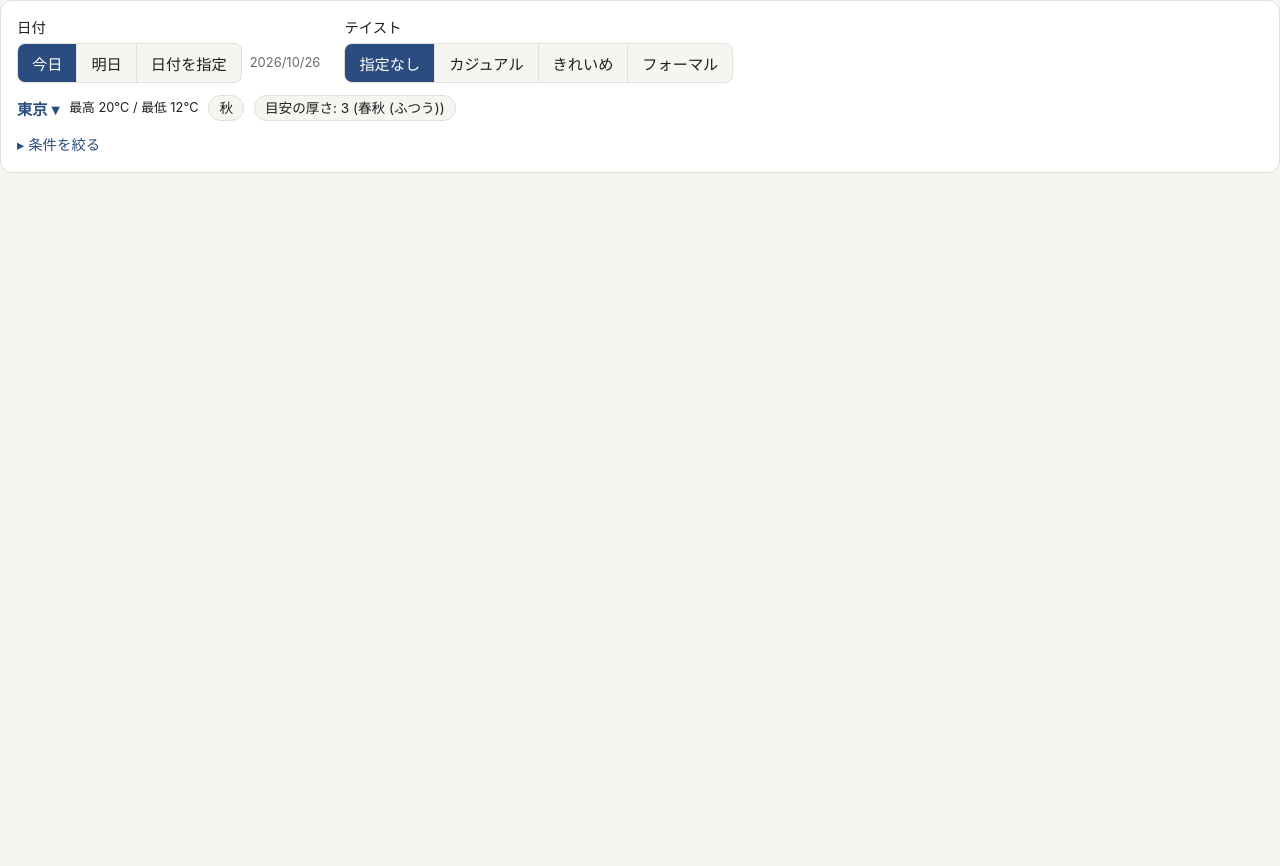
it: two-tier conditions › lets the user return a manually typed temperature to the forecast
Expected: the text "最高 20℃ / 最低 12℃" is shown, [69,98,198,117]
Click the button "▸ 条件を絞る" at (59, 144), box [17,133,100,154]
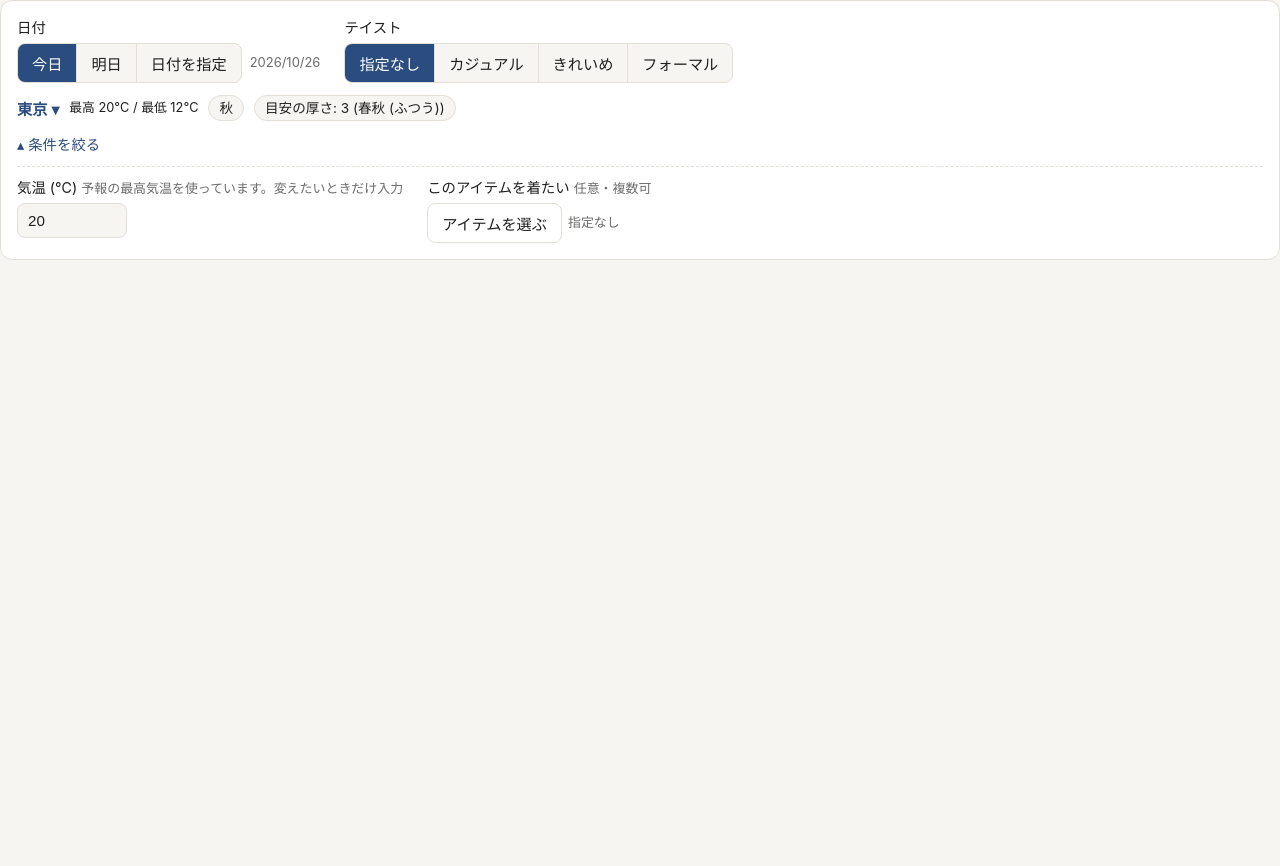
Expected: the button "予報に戻す" is not shown
Expected: the number field with placeholder "例: 18" holds "20"
Replace the text in the number field with placeholder "例: 18" with "12" at (72, 220), box [17,203,127,238]
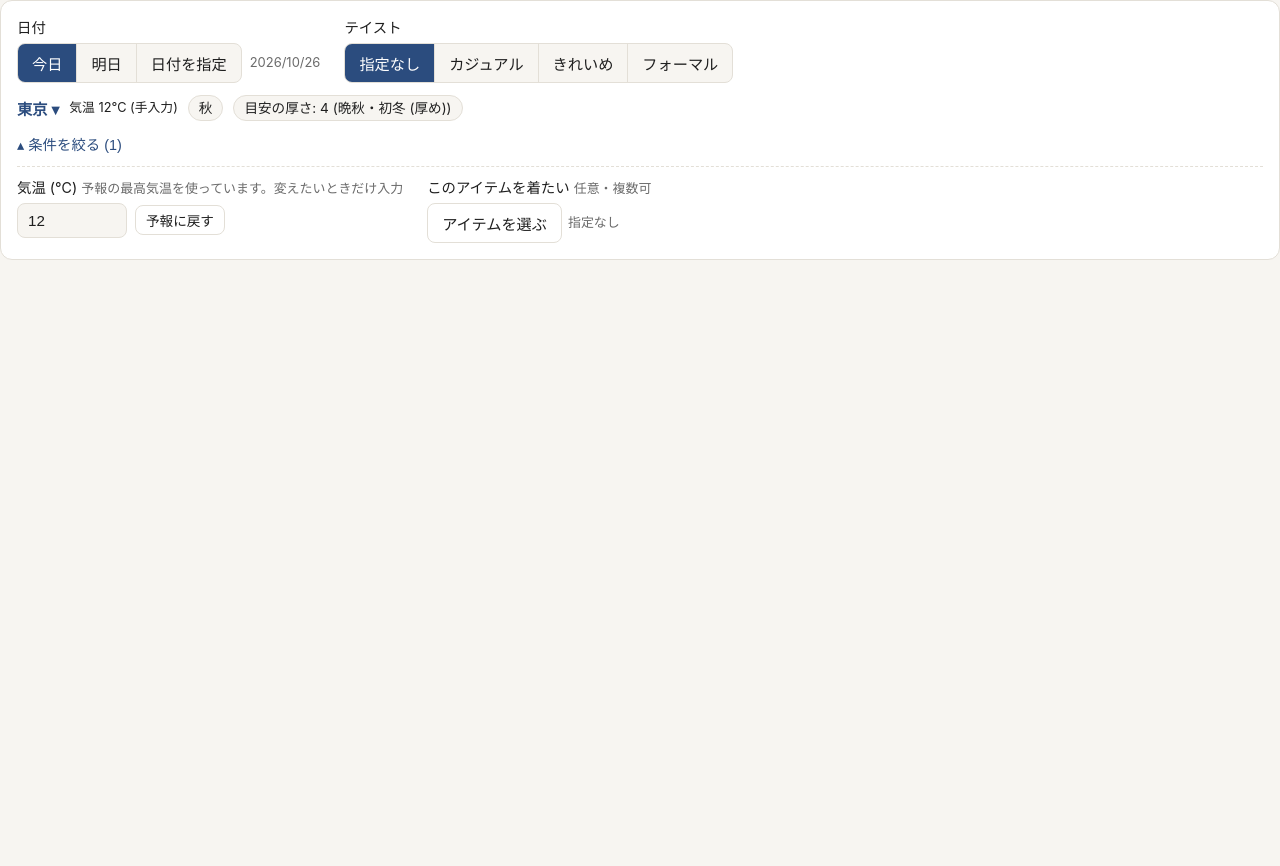
Click the button "予報に戻す" at (180, 220), box [135,205,225,235]
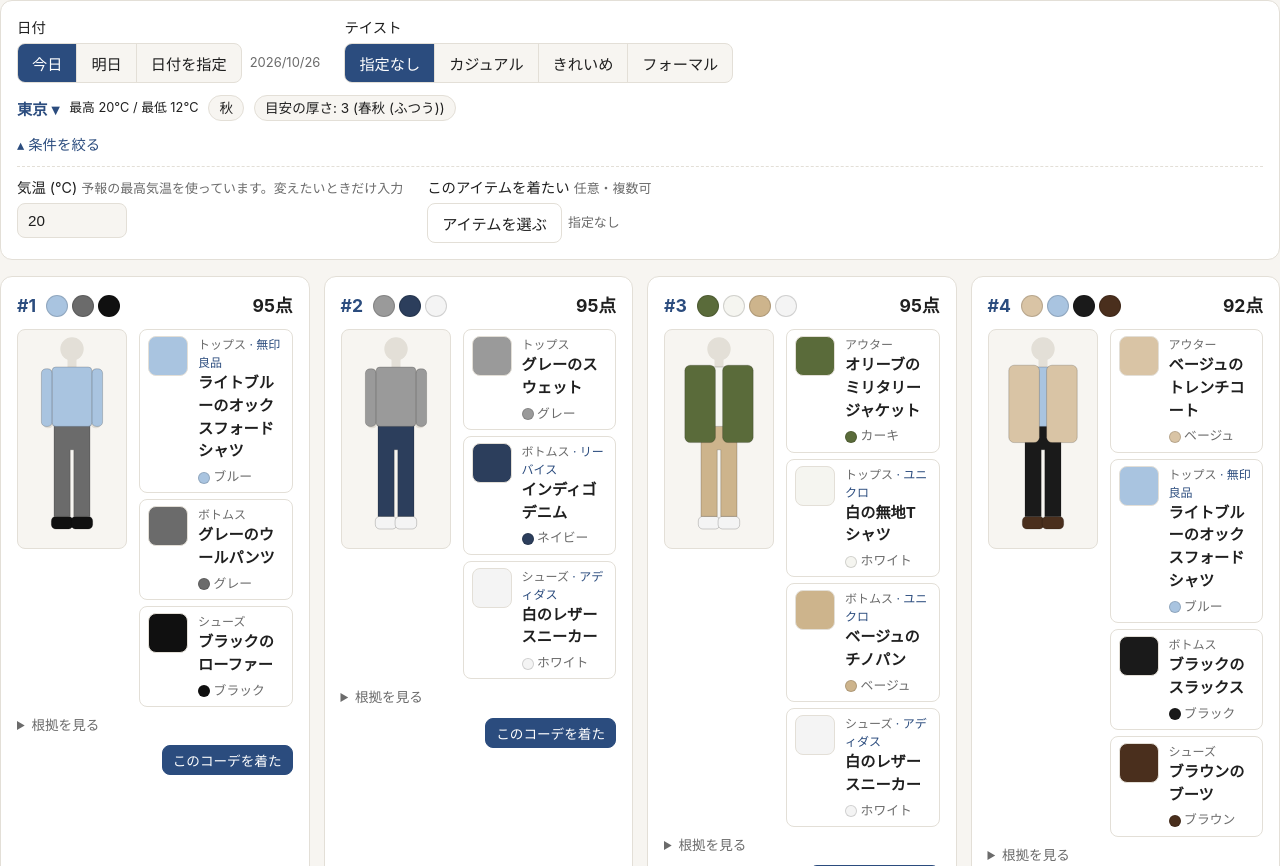
Expected: the number field with placeholder "例: 18" holds "20", [17,203,127,238]
Expected: the button "予報に戻す" is gone
